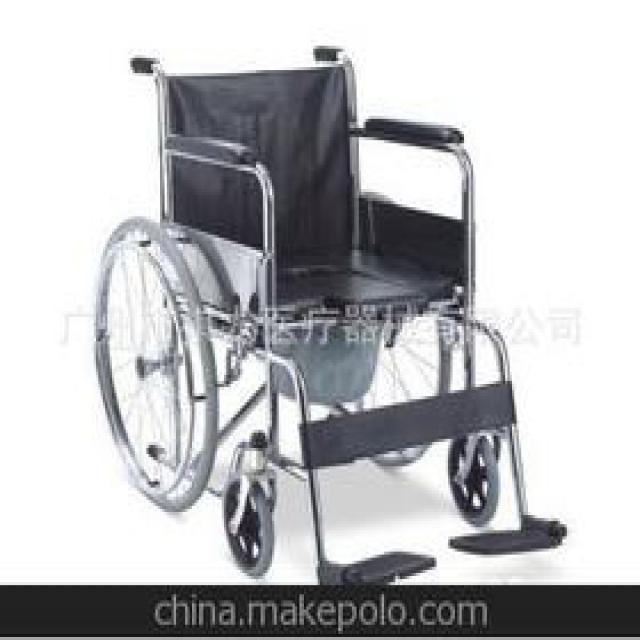wheelchairs: (96, 46, 563, 582)
